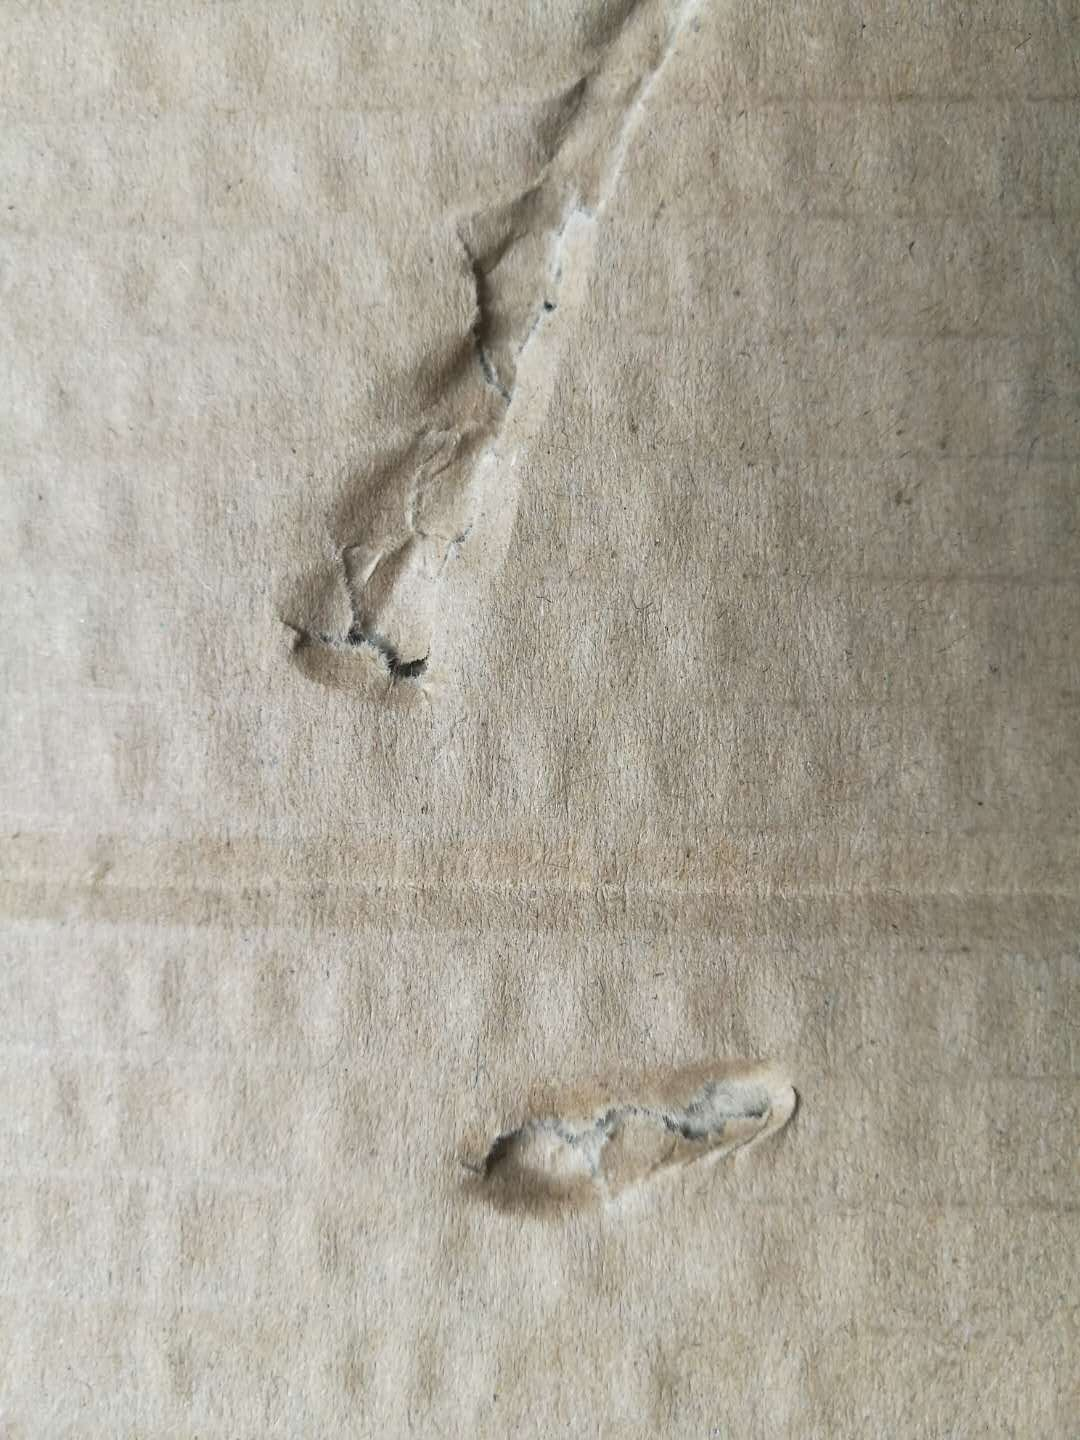defect: (223, 5, 773, 756), (2, 796, 1080, 1013), (428, 1037, 820, 1256)
